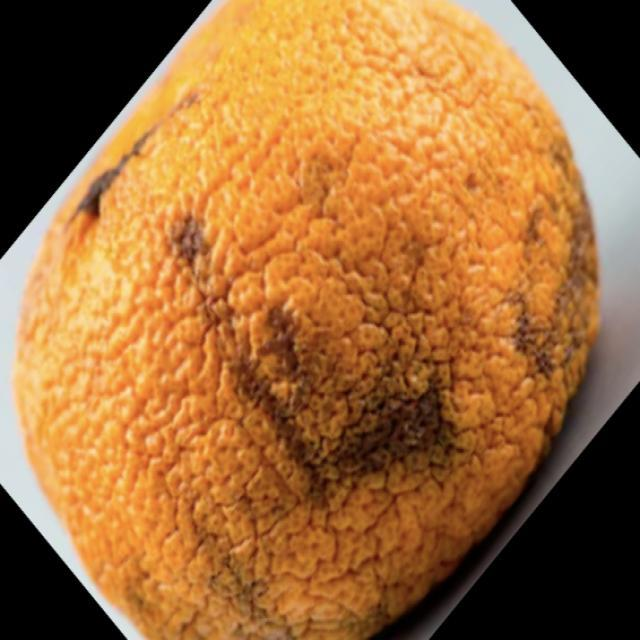sedikit-busuk: (14, 0, 598, 639)
